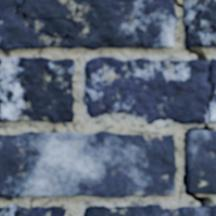brick: (0, 132, 175, 197), (0, 0, 177, 50), (0, 57, 74, 123), (187, 131, 215, 193), (185, 0, 215, 47), (0, 205, 66, 215)
broken_brick: (82, 56, 209, 125), (83, 204, 215, 215), (209, 91, 215, 124), (209, 58, 215, 83)
crack: (183, 2, 215, 213), (173, 0, 187, 35), (0, 186, 26, 199)
